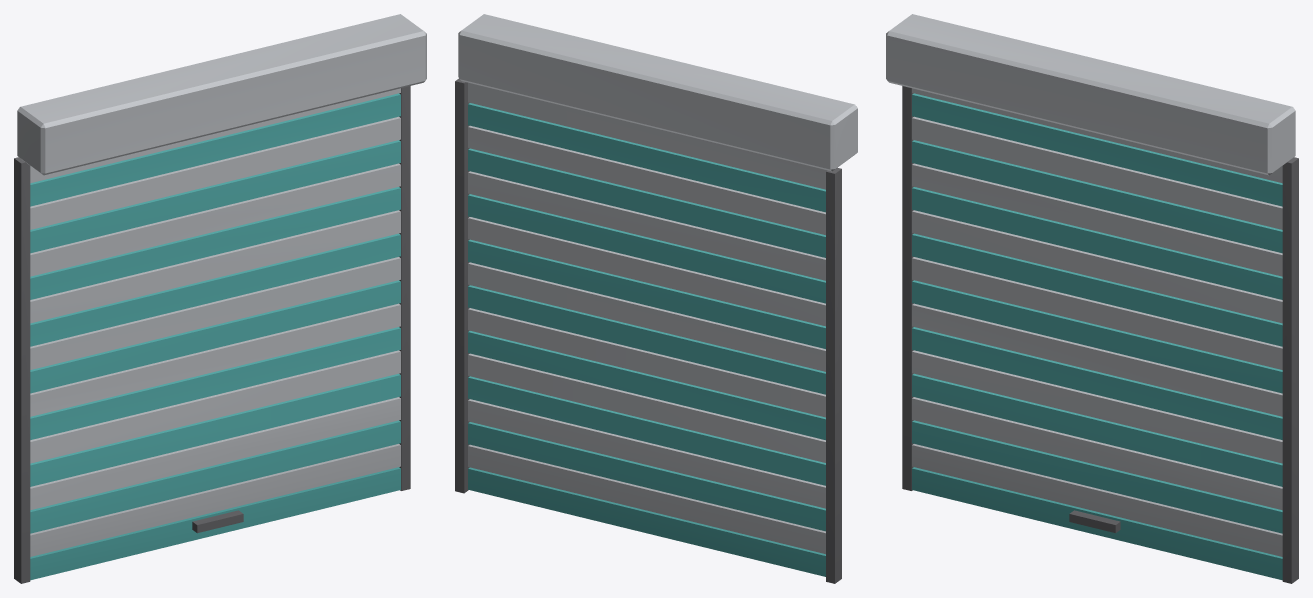
Rendered from shop_shutter.glb.
3 renders of one model, left to right at view 1: azimuth 30°, elevation 25°; view 2: azimuth 150°, elevation 25°; view 3: azimuth 330°, elevation 25°, orthographic. The views are drawn at different scales.
Parts seen in each view (by area): view 1: Cube.003, Cube, handle; view 2: Cube.003, Cube; view 3: Cube.003, Cube, handle.
Part boxes in pixels (bbox=[...]): Cube.003: bbox=[30, 88, 400, 580]; Cube: bbox=[14, 14, 426, 583]; handle: bbox=[192, 510, 243, 533]; Cube.003: bbox=[468, 82, 827, 576]; Cube: bbox=[455, 14, 857, 583]; Cube.003: bbox=[912, 88, 1282, 580]; Cube: bbox=[886, 14, 1298, 583]; handle: bbox=[1069, 510, 1120, 533].
Bounding box in the file's own units: 2.52 × 2.92 × 0.3001.
